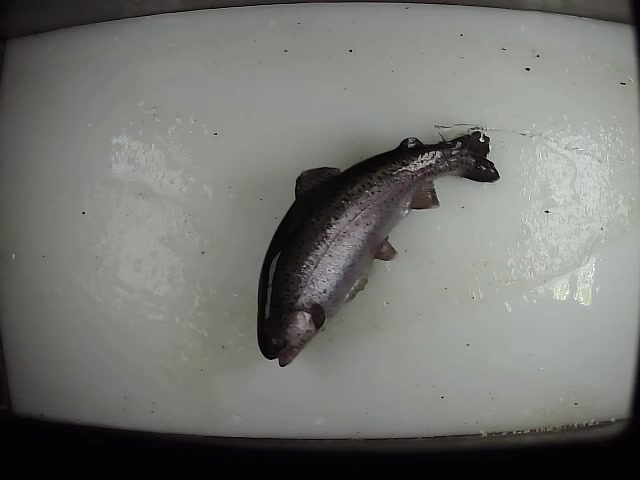fish: (252, 125, 504, 372)
